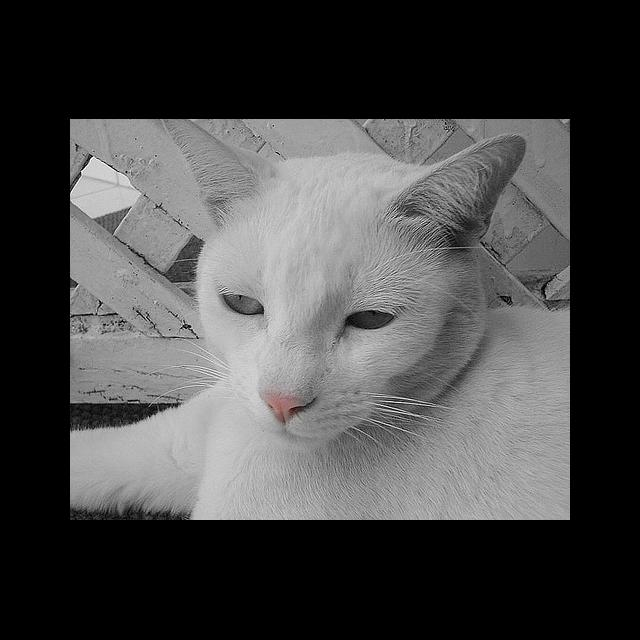animals: (157, 120, 520, 420)
